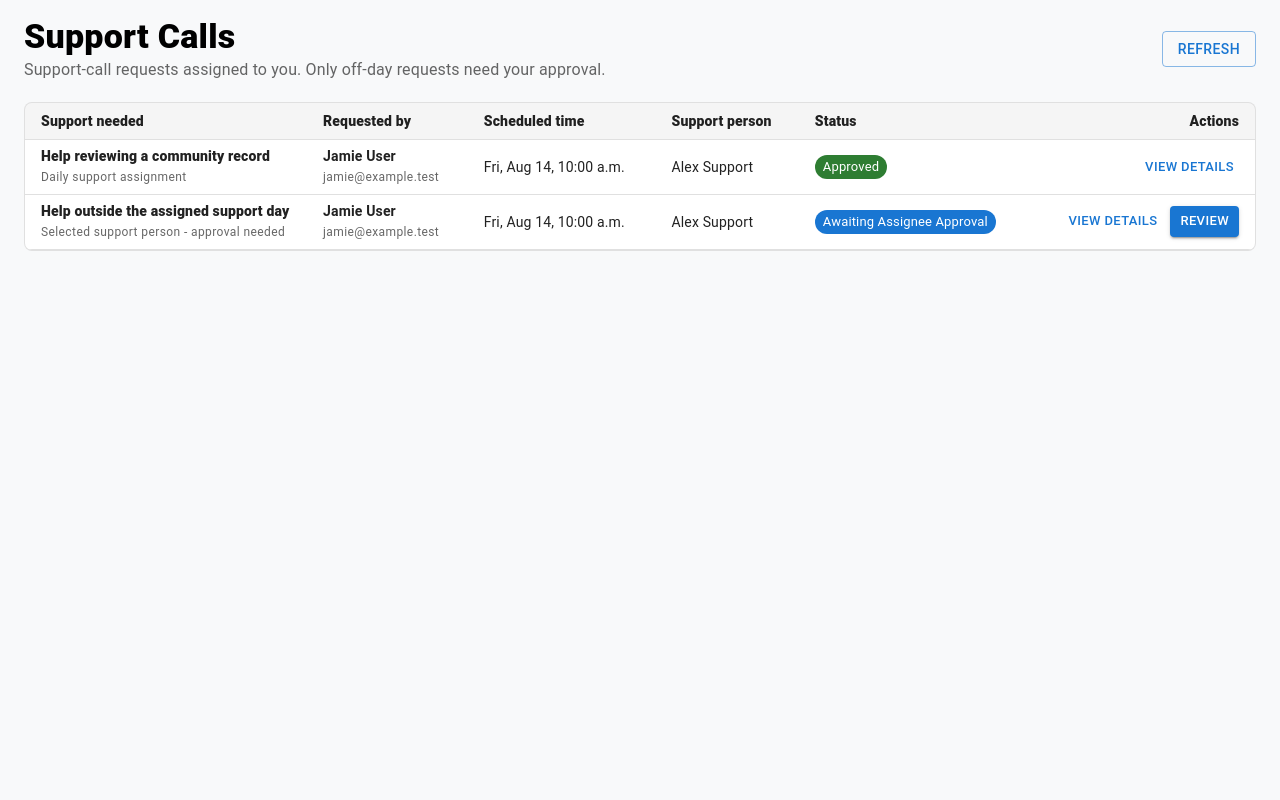
Test case: SupportRequestsPage › shows assigned requests in a table without the scheduling calendar
Expected: the table named "Support-call requests" is shown, 25,103 -> 1255,250
Expected: the text "Help outside the assigned support day" is shown, 41,203 -> 289,219
Click the button "View details" in the row of "Help outside the assigned support day": coordinates (1113, 222) 1064,206 -> 1162,237
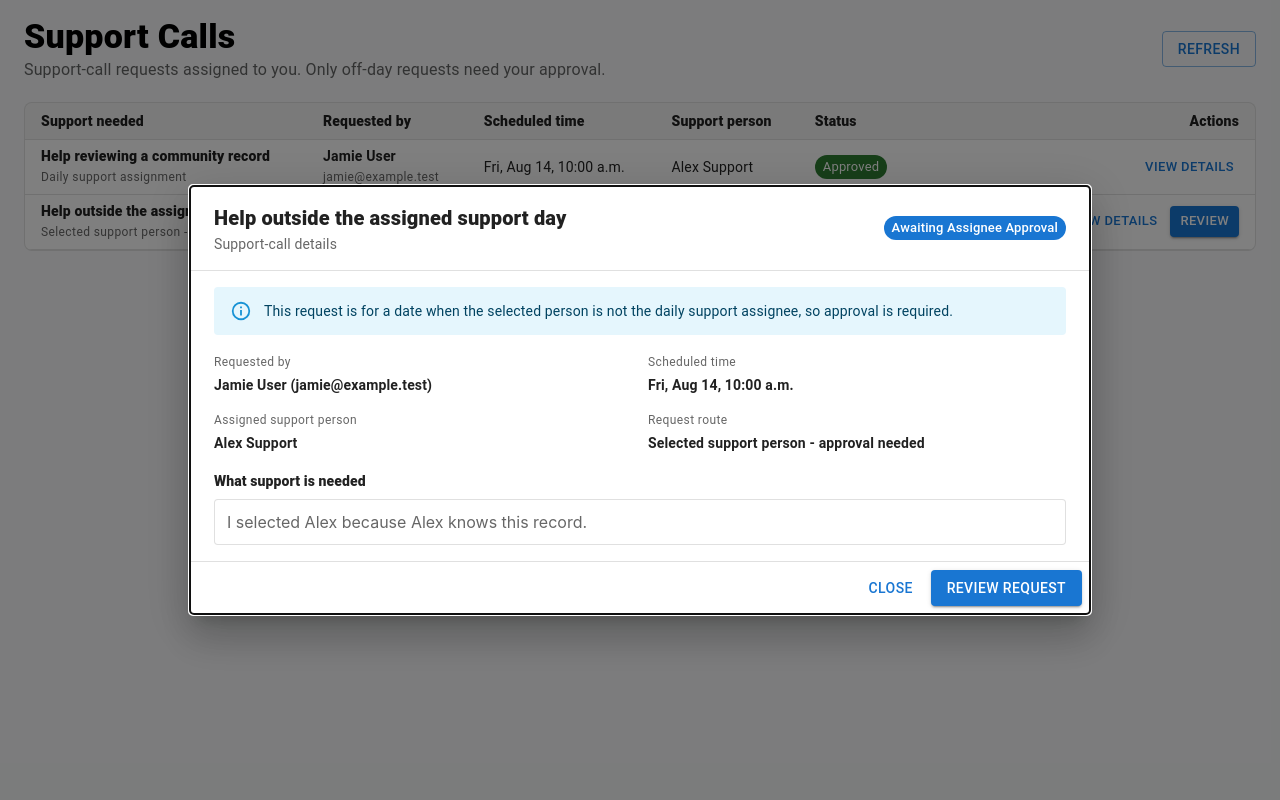
Expected: the text "jamie@example.test" is shown, 323,170 -> 439,184
Result: the text "I selected Alex because Alex knows this record." is shown at 214,499 -> 1066,545
Result: the text "approval is required" is shown at 264,303 -> 953,319
